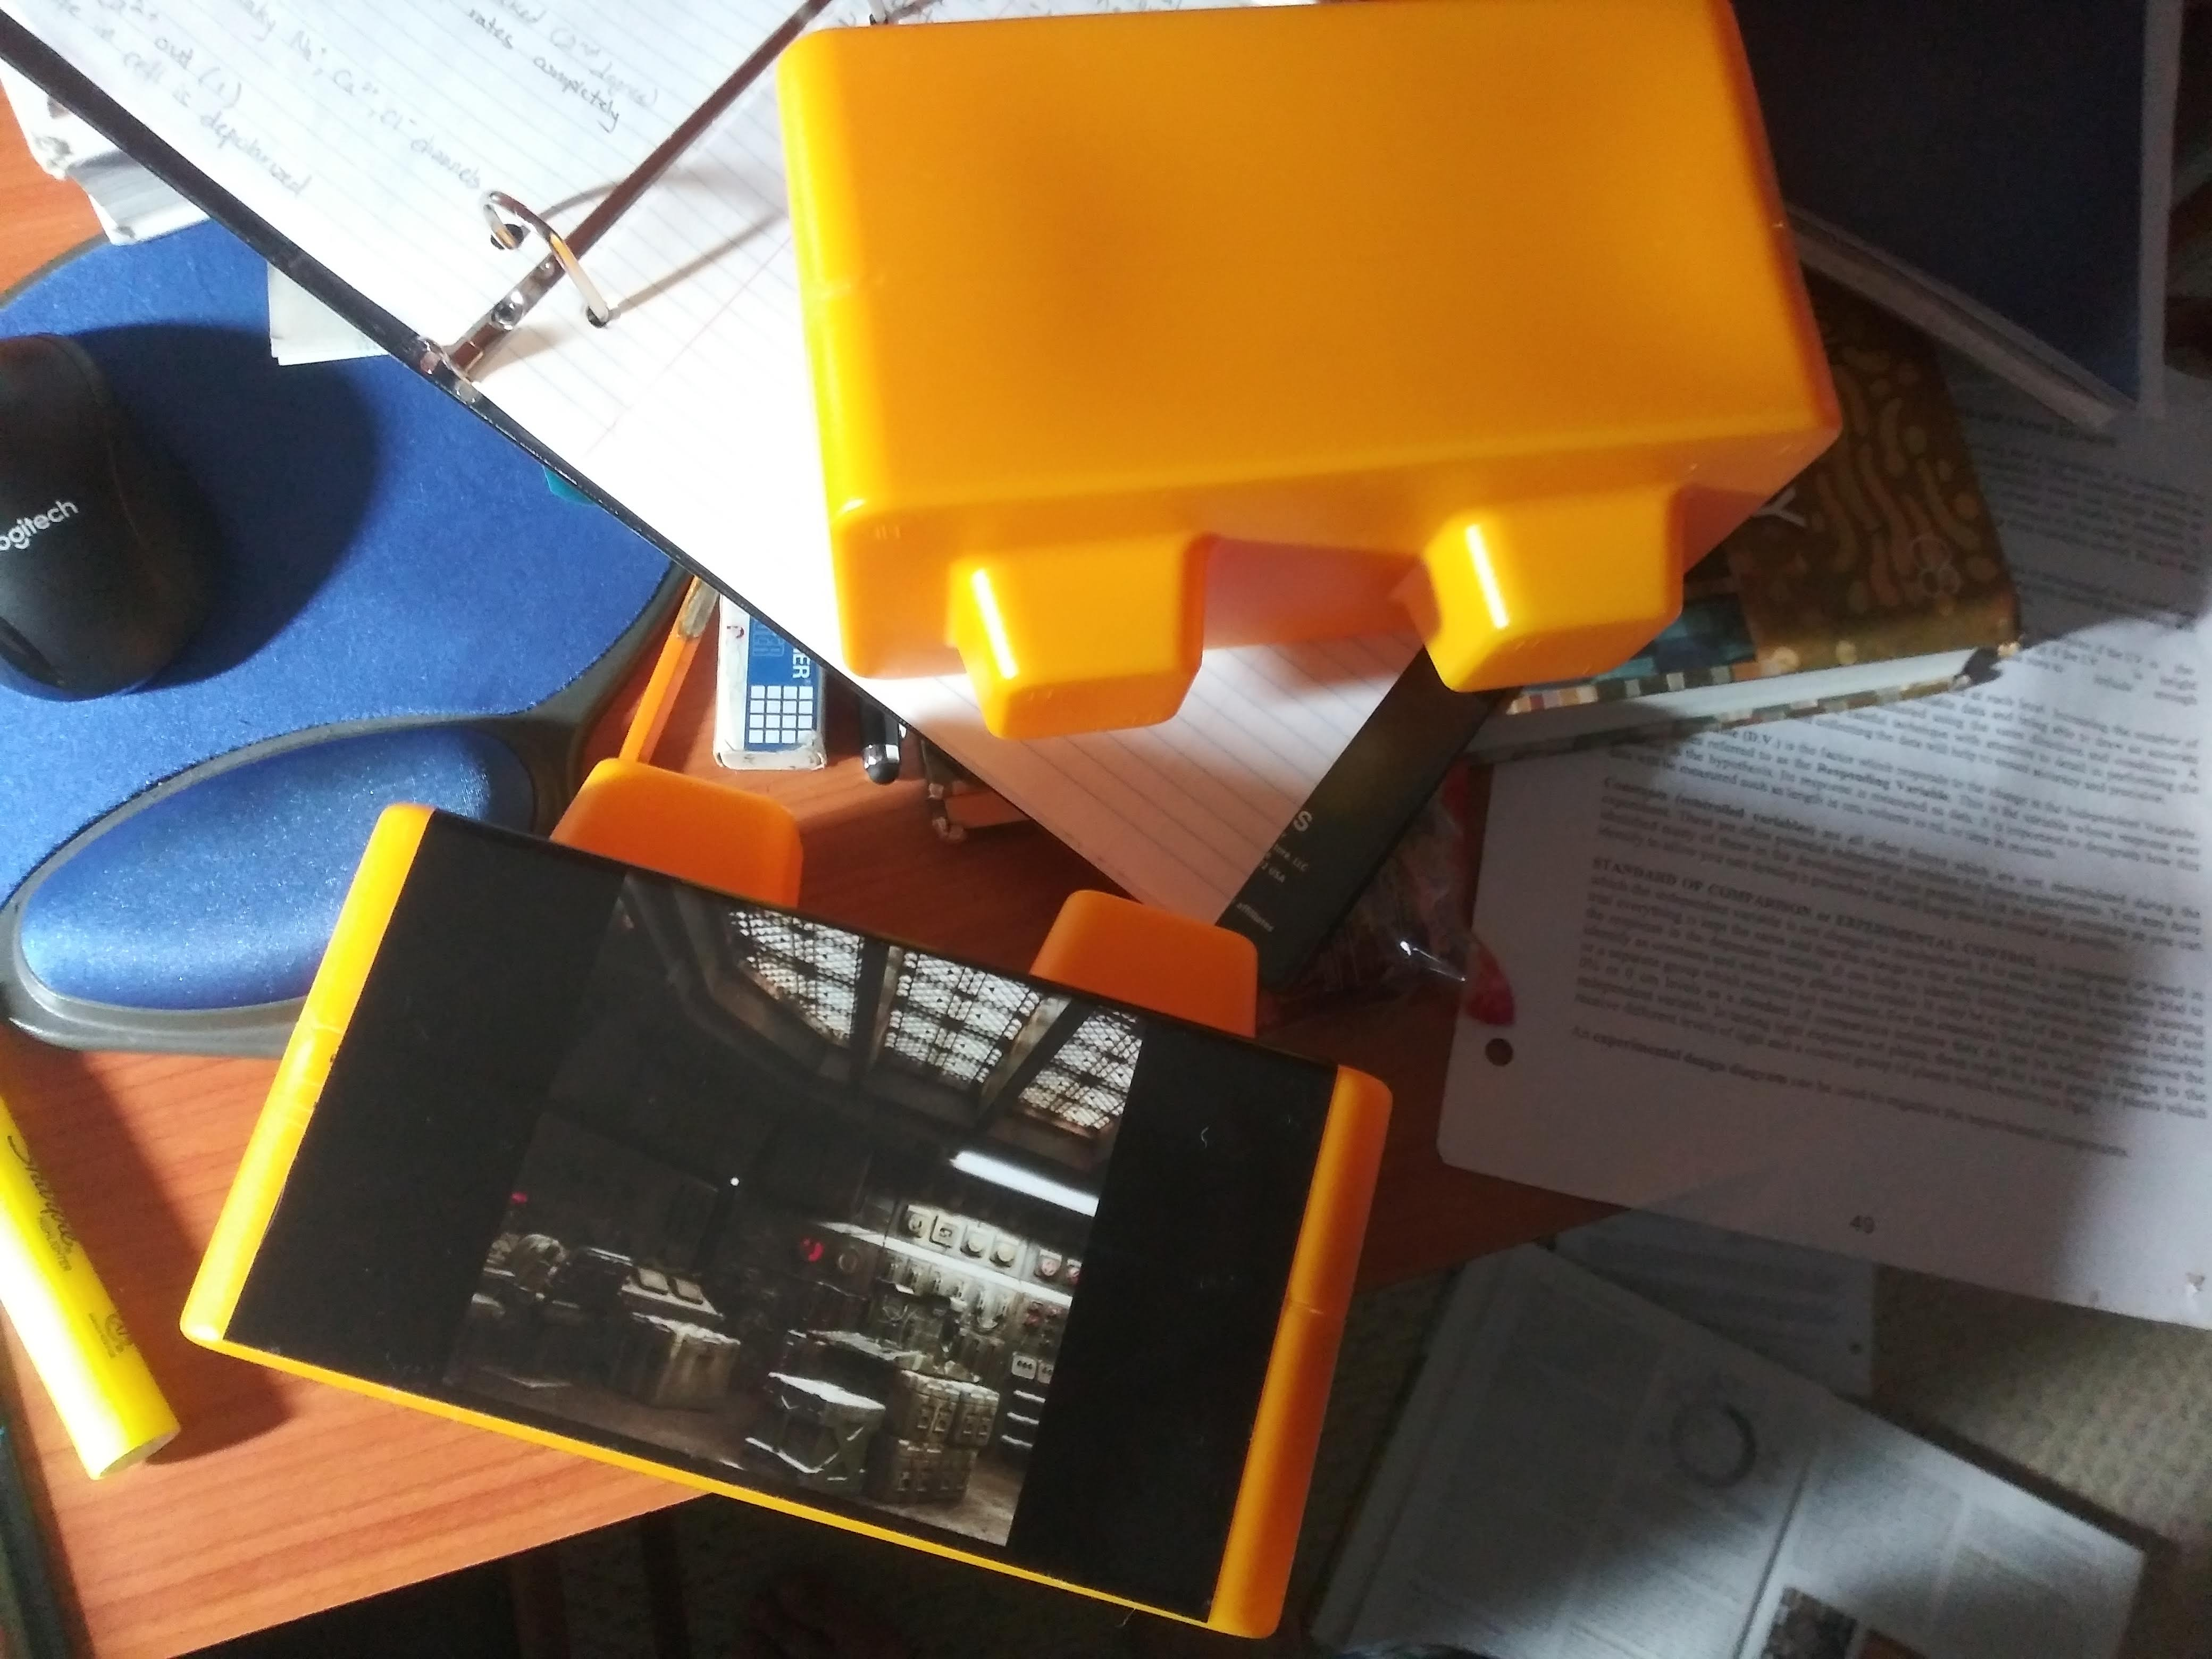skystone: (272, 873, 1301, 1485)
stone: (789, 33, 1804, 626)
